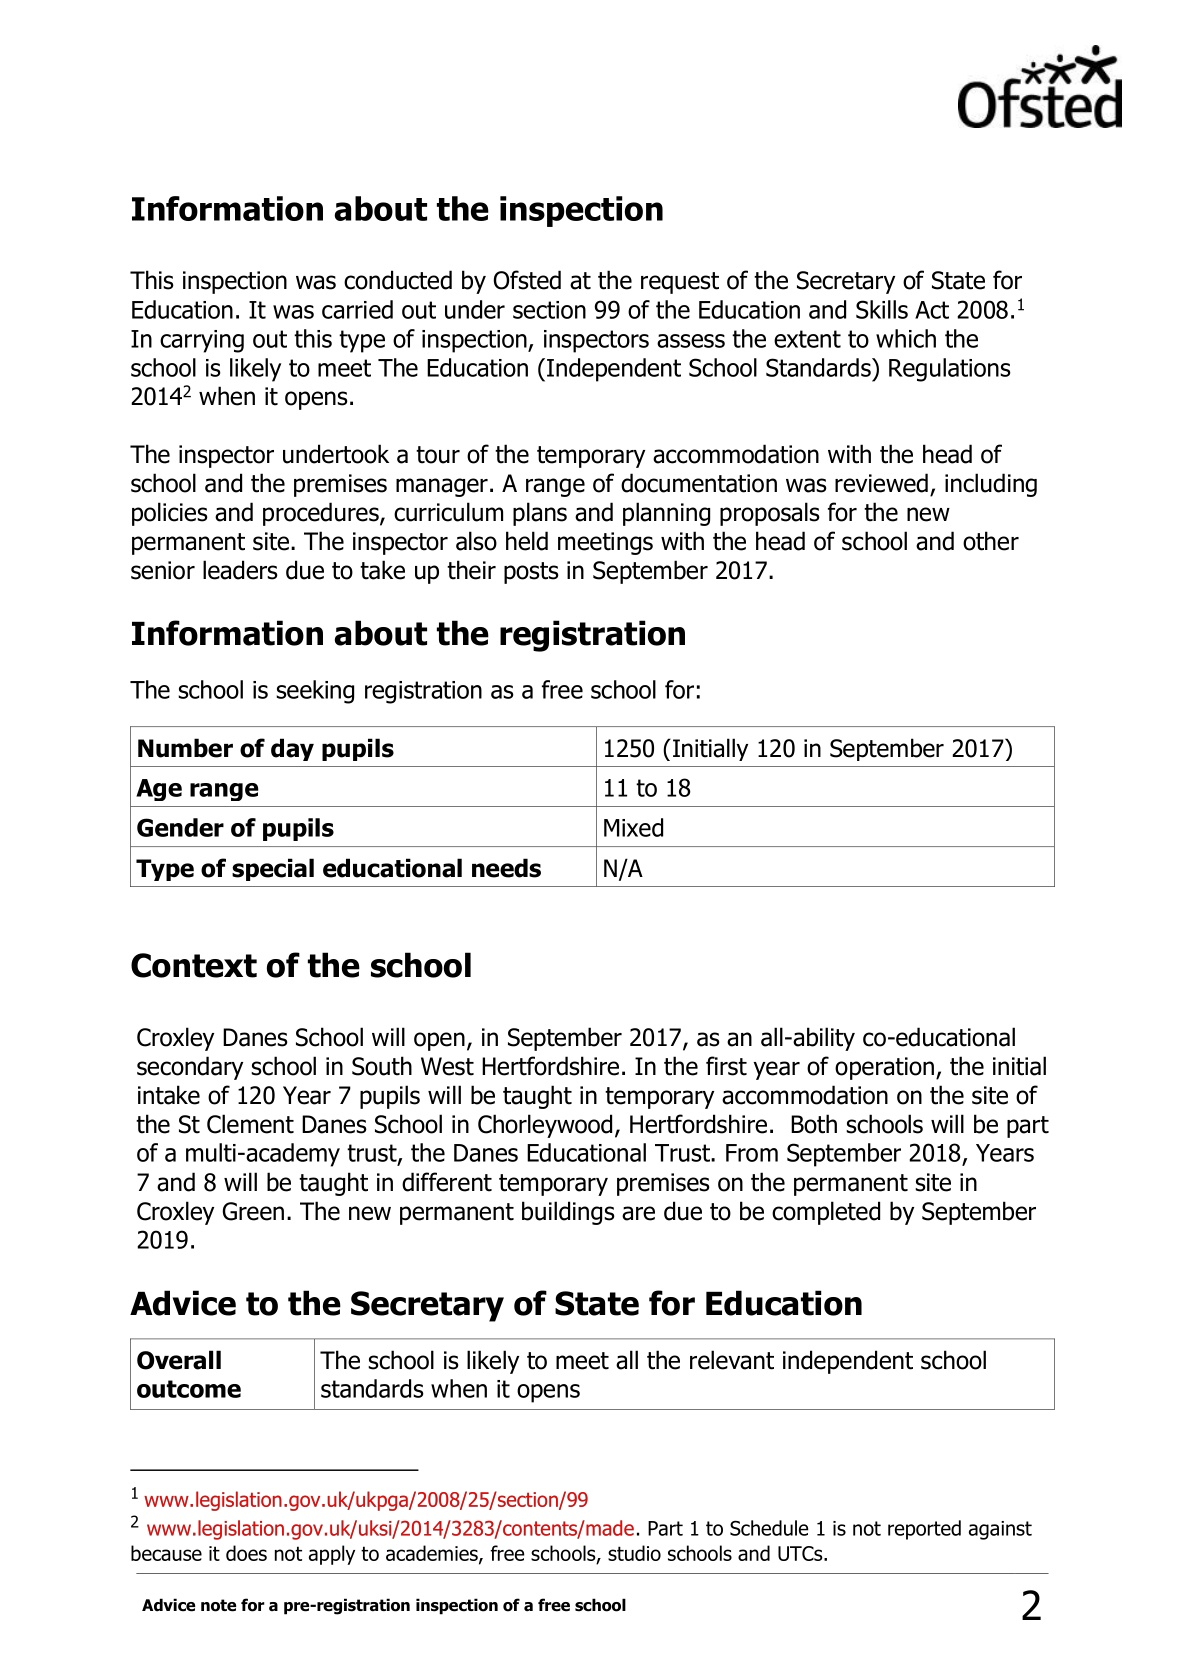full_lined: (129, 725, 1055, 888), (129, 1337, 1055, 1410)
